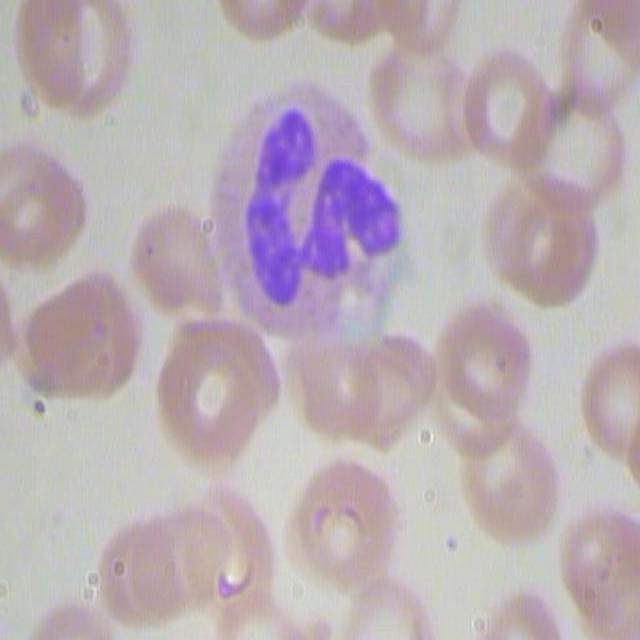RBC: (286, 312, 434, 456), (154, 314, 277, 466), (275, 446, 401, 592), (13, 266, 143, 406), (416, 296, 524, 444), (511, 84, 625, 218), (13, 2, 137, 121), (486, 174, 596, 306), (93, 506, 202, 638), (180, 488, 271, 639), (453, 418, 557, 545), (368, 43, 470, 168), (533, 2, 637, 123), (120, 201, 226, 318), (452, 47, 548, 163), (0, 145, 82, 272), (562, 507, 640, 636), (577, 341, 640, 479), (347, 563, 440, 640), (208, 0, 305, 44)
WBC: (243, 71, 406, 337)
